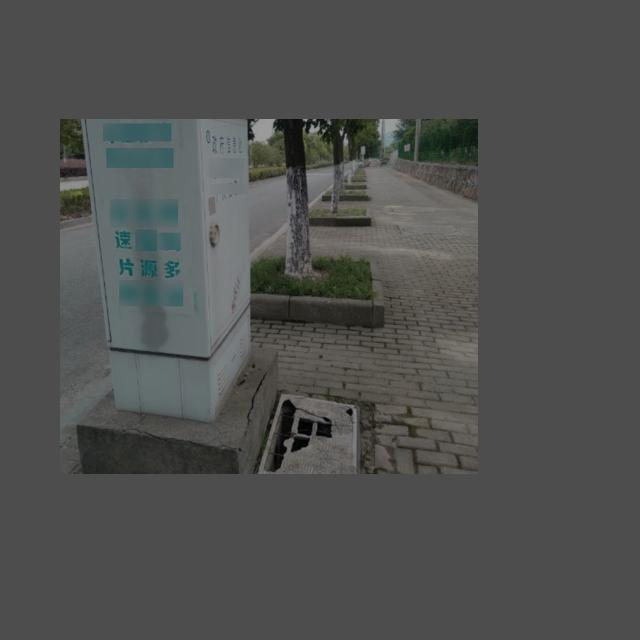broke: (252, 391, 364, 474)
